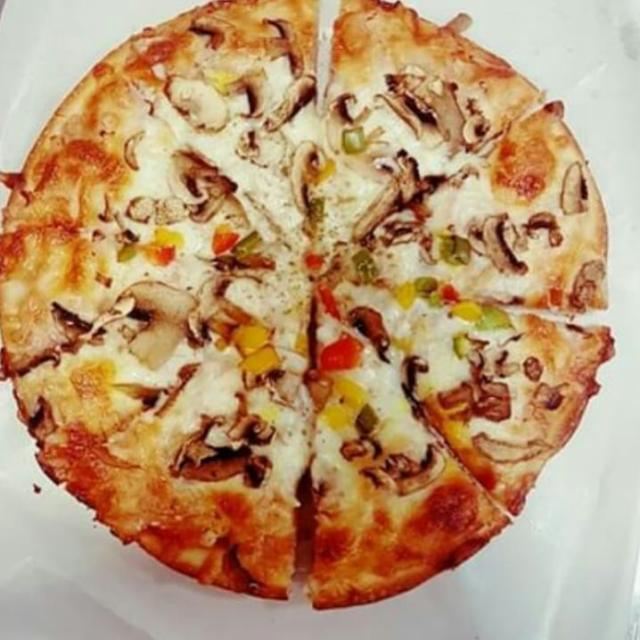mushrooms: (172, 401, 284, 487), (356, 152, 429, 244), (124, 276, 203, 359), (342, 434, 441, 492), (190, 273, 259, 346), (162, 70, 230, 135), (168, 156, 234, 220), (467, 210, 531, 273), (59, 292, 132, 342), (387, 71, 444, 132), (269, 74, 326, 128), (290, 139, 329, 215), (266, 18, 317, 76), (104, 198, 162, 244), (452, 376, 508, 418), (560, 158, 596, 214), (397, 352, 426, 398)
peppers: (315, 334, 372, 432), (442, 280, 511, 333), (234, 318, 279, 372), (304, 249, 342, 309), (392, 274, 436, 309), (148, 223, 180, 260), (210, 221, 240, 259), (336, 121, 362, 151)
pizza: (0, 0, 617, 614)
